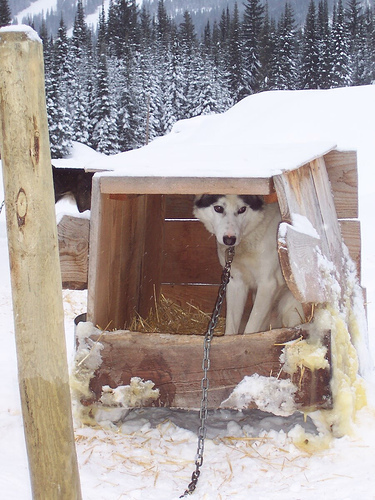dog: (187, 193, 337, 346)
